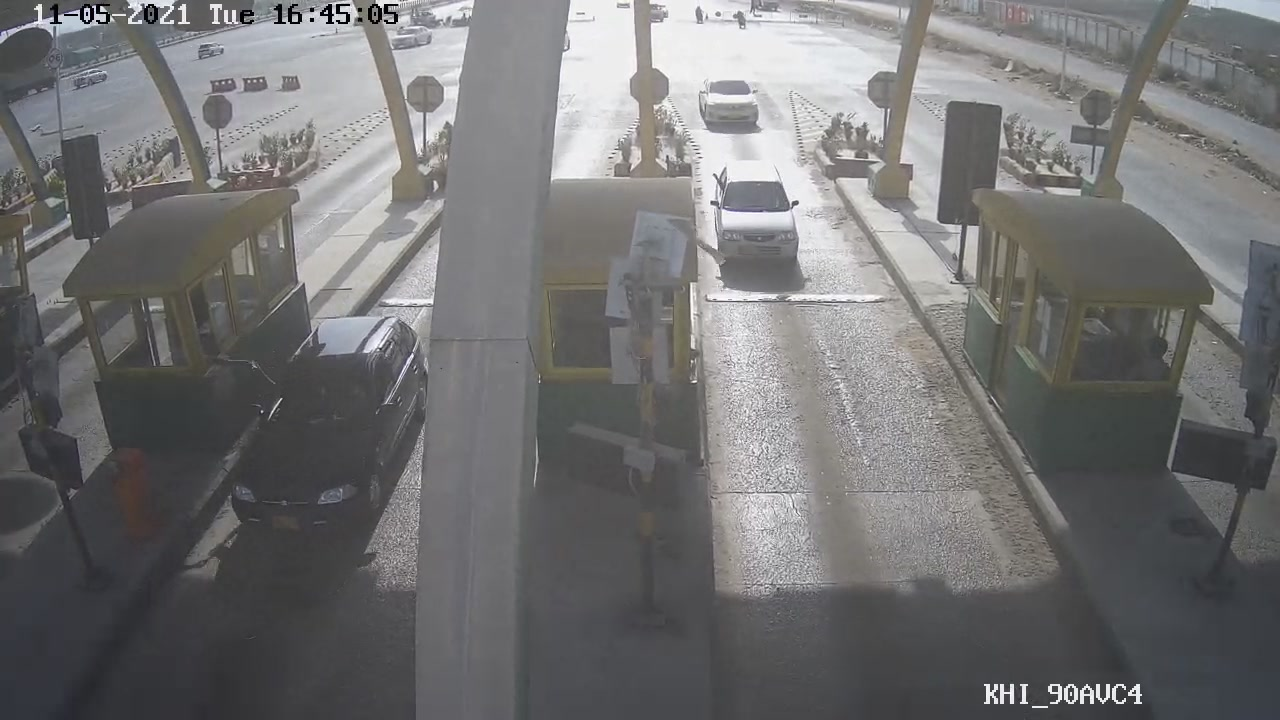F1: (706, 163, 808, 264)
